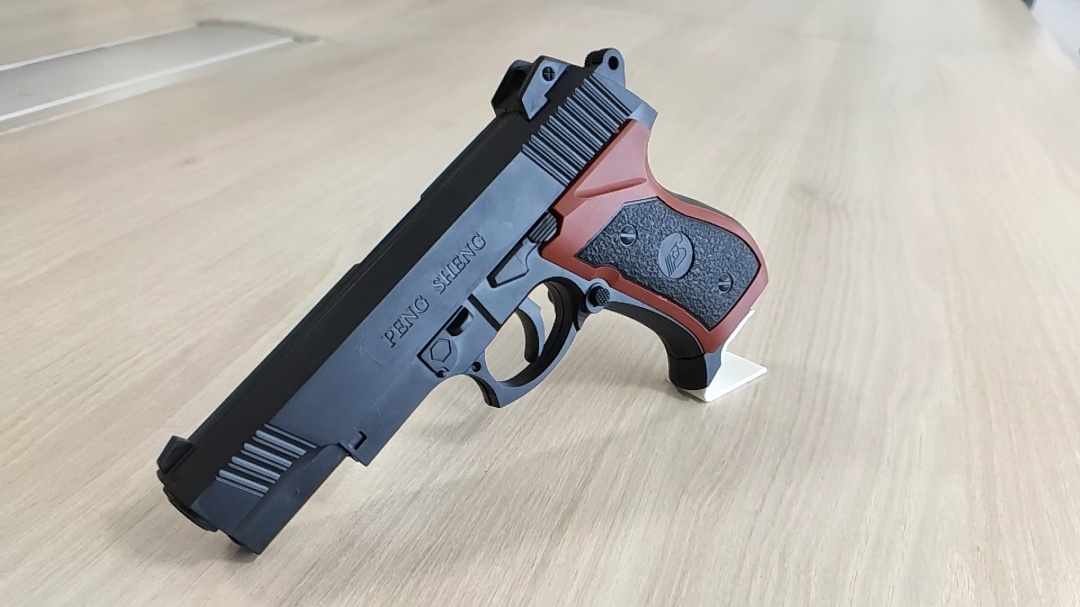gun: (156, 44, 771, 558)
